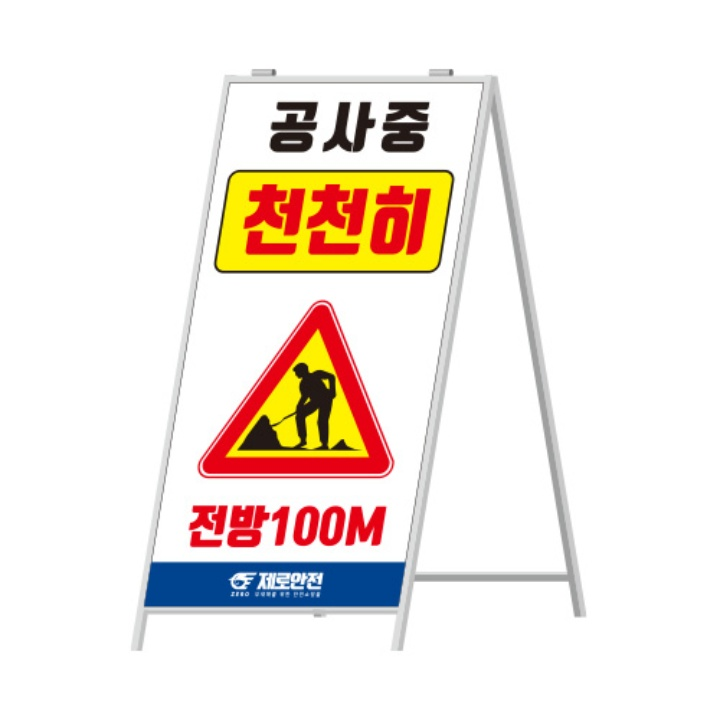const: (236, 340, 356, 455)
